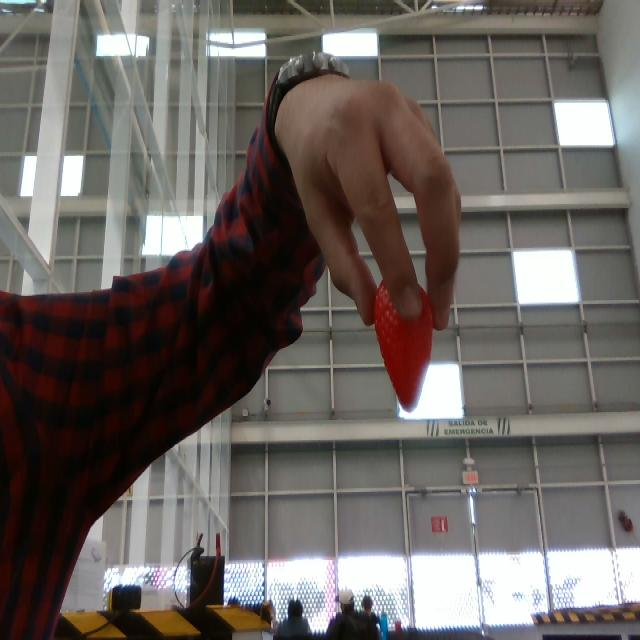grande_roja: (375, 283, 431, 411)
